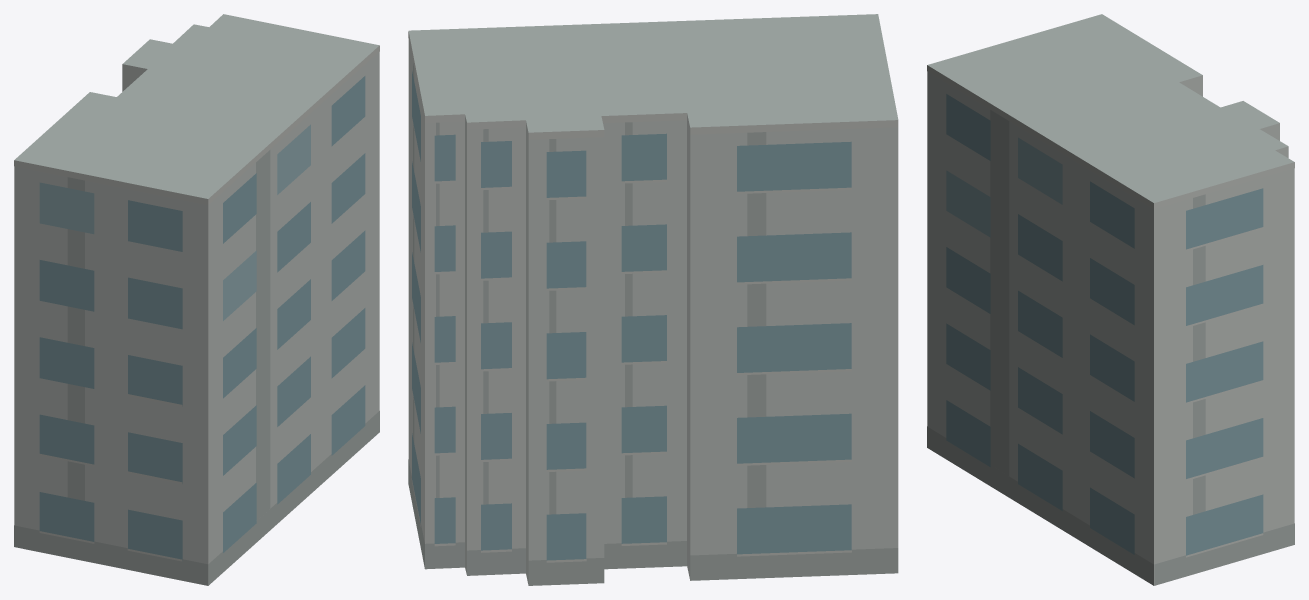
File: survey-upis-32909283.glb
3 views of the same model, side by side, from view 1: azimuth 30°, elevation 25°; view 2: azimuth 150°, elevation 25°; view 3: azimuth 270°, elevation 25° (orthographic). The views are drawn at different scales.
Parts seen in each view (by area): view 1: survey-upis-32909283.tmp; view 2: survey-upis-32909283.tmp; view 3: survey-upis-32909283.tmp.
Part boxes in pixels (left/top/right/bottom): survey-upis-32909283.tmp: left=14, top=14, right=379, bottom=585; survey-upis-32909283.tmp: left=408, top=14, right=898, bottom=585; survey-upis-32909283.tmp: left=927, top=14, right=1294, bottom=585.
Bounding box in the file's own units: 16.18 × 15.25 × 13.28.
